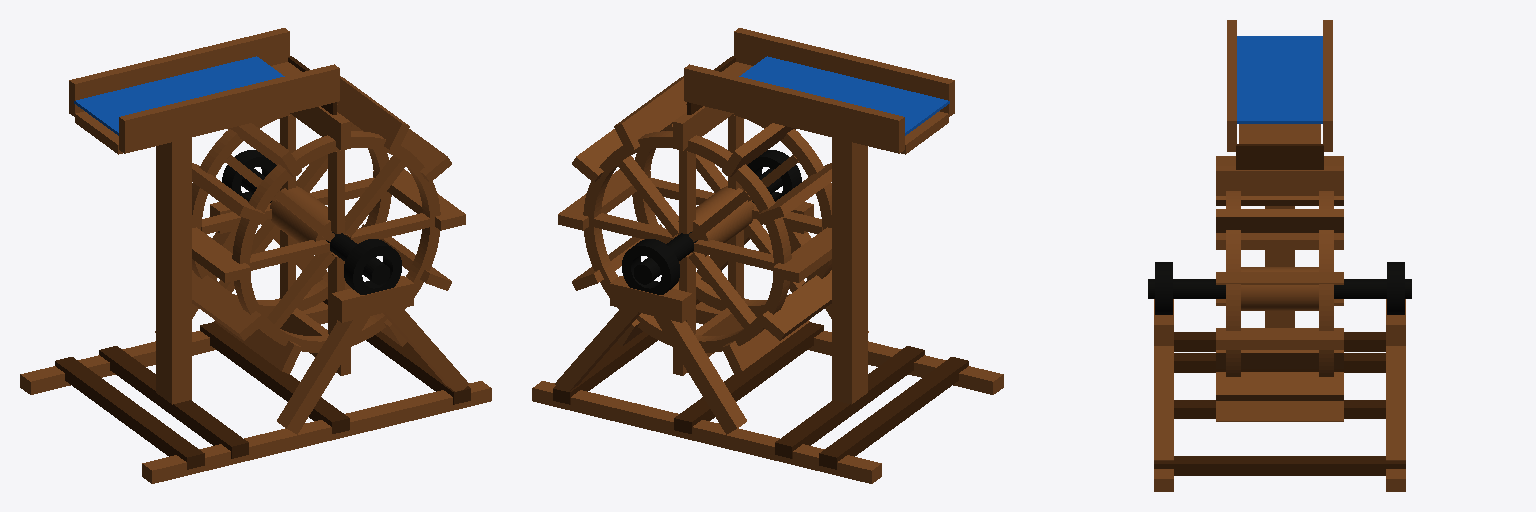
robot.urdf — undershot_waterwheel:
<robot name="undershot_waterwheel">
  <link name="frame">
    <visual name="base_rail_0">
      <origin xyz="0.12 -0.45 0.0275" rpy="0 0 0" />
      <geometry>
        <box size="1.45 0.075 0.055" />
        </geometry>
      <material name="weathered_wood">
        <color rgba="0.5 0.31 0.16 1" />
        </material>
      </visual>
    <visual name="base_rail_1">
      <origin xyz="0.12 0.45 0.0275" rpy="0 0 0" />
      <geometry>
        <box size="1.45 0.075 0.055" />
        </geometry>
      <material name="weathered_wood">
        <color rgba="0.5 0.31 0.16 1" />
        </material>
      </visual>
    <visual name="cross_tie_-0.42">
      <origin xyz="-0.42 0 0.05" rpy="0 0 0" />
      <geometry>
        <box size="0.075 0.98 0.05" />
        </geometry>
      <material name="dark_endgrain">
        <color rgba="0.28 0.17 0.08 1" />
        </material>
      </visual>
    <visual name="cross_tie_-0.23">
      <origin xyz="-0.23 0 0.05" rpy="0 0 0" />
      <geometry>
        <box size="0.075 0.98 0.05" />
        </geometry>
      <material name="dark_endgrain">
        <color rgba="0.28 0.17 0.08 1" />
        </material>
      </visual>
    <visual name="cross_tie_0.20">
      <origin xyz="0.2 0 0.05" rpy="0 0 0" />
      <geometry>
        <box size="0.075 0.98 0.05" />
        </geometry>
      <material name="dark_endgrain">
        <color rgba="0.28 0.17 0.08 1" />
        </material>
      </visual>
    <visual name="cross_tie_0.72">
      <origin xyz="0.72 0 0.05" rpy="0 0 0" />
      <geometry>
        <box size="0.075 0.98 0.05" />
        </geometry>
      <material name="dark_endgrain">
        <color rgba="0.28 0.17 0.08 1" />
        </material>
      </visual>
    <visual name="main_column">
      <origin xyz="-0.23 0 0.6425" rpy="0 0 0" />
      <geometry>
        <box size="0.085 0.12 1.135" />
        </geometry>
      <material name="weathered_wood">
        <color rgba="0.5 0.31 0.16 1" />
        </material>
      </visual>
    <visual name="side_leg_0_0">
      <origin xyz="0.1625 -0.45 0.3" rpy="0 0.647047 0" />
      <geometry>
        <box size="0.06 0.075 0.564004" />
        </geometry>
      <material name="weathered_wood">
        <color rgba="0.5 0.31 0.16 1" />
        </material>
      </visual>
    <visual name="side_leg_0_1">
      <origin xyz="0.5575 -0.45 0.3" rpy="0 -0.647047 0" />
      <geometry>
        <box size="0.06 0.075 0.564004" />
        </geometry>
      <material name="weathered_wood">
        <color rgba="0.5 0.31 0.16 1" />
        </material>
      </visual>
    <visual name="bearing_sill_0">
      <origin xyz="0.36 -0.45 0.515" rpy="0 0 0" />
      <geometry>
        <box size="0.31 0.078 0.09" />
        </geometry>
      <material name="weathered_wood">
        <color rgba="0.5 0.31 0.16 1" />
        </material>
      </visual>
    <visual name="side_leg_1_0">
      <origin xyz="0.1625 0.45 0.3" rpy="0 0.647047 0" />
      <geometry>
        <box size="0.06 0.075 0.564004" />
        </geometry>
      <material name="weathered_wood">
        <color rgba="0.5 0.31 0.16 1" />
        </material>
      </visual>
    <visual name="side_leg_1_1">
      <origin xyz="0.5575 0.45 0.3" rpy="0 -0.647047 0" />
      <geometry>
        <box size="0.06 0.075 0.564004" />
        </geometry>
      <material name="weathered_wood">
        <color rgba="0.5 0.31 0.16 1" />
        </material>
      </visual>
    <visual name="bearing_sill_1">
      <origin xyz="0.36 0.45 0.515" rpy="0 0 0" />
      <geometry>
        <box size="0.31 0.078 0.09" />
        </geometry>
      <material name="weathered_wood">
        <color rgba="0.5 0.31 0.16 1" />
        </material>
      </visual>
    <visual name="bearing_0">
      <geometry>
        <mesh filename="assets/meshes/bearing_ring_0.obj" />
        </geometry>
      <material name="dark_wrought_iron">
        <color rgba="0.08 0.08 0.075 1" />
        </material>
      </visual>
    <visual name="bearing_1">
      <geometry>
        <mesh filename="assets/meshes/bearing_ring_1.obj" />
        </geometry>
      <material name="dark_wrought_iron">
        <color rgba="0.08 0.08 0.075 1" />
        </material>
      </visual>
    <visual name="trough_bottom">
      <origin xyz="-0.1 0 1.222" rpy="0 0 0" />
      <geometry>
        <box size="0.92 0.32 0.038" />
        </geometry>
      <material name="weathered_wood">
        <color rgba="0.5 0.31 0.16 1" />
        </material>
      </visual>
    <visual name="trough_side_0">
      <origin xyz="-0.1 -0.185 1.292" rpy="0 0 0" />
      <geometry>
        <box size="0.92 0.04 0.135" />
        </geometry>
      <material name="weathered_wood">
        <color rgba="0.5 0.31 0.16 1" />
        </material>
      </visual>
    <visual name="trough_side_1">
      <origin xyz="-0.1 0.185 1.292" rpy="0 0 0" />
      <geometry>
        <box size="0.92 0.04 0.135" />
        </geometry>
      <material name="weathered_wood">
        <color rgba="0.5 0.31 0.16 1" />
        </material>
      </visual>
    <visual name="trough_lip">
      <origin xyz="0.36 0 1.205" rpy="0 0 0" />
      <geometry>
        <box size="0.018 0.34 0.105" />
        </geometry>
      <material name="dark_endgrain">
        <color rgba="0.28 0.17 0.08 1" />
        </material>
      </visual>
    <visual name="water_surface">
      <origin xyz="-0.17 0 1.286" rpy="0 0 0" />
      <geometry>
        <box size="0.78 0.34 0.012" />
        </geometry>
      <material name="channel_water">
        <color rgba="0.1 0.38 0.72 0.62" />
        </material>
      </visual>
    <collision name="base_rail_0">
      <origin xyz="0.12 -0.45 0.0275" rpy="0 0 0" />
      <geometry>
        <box size="1.45 0.075 0.055" />
        </geometry>
      </collision>
    <collision name="base_rail_1">
      <origin xyz="0.12 0.45 0.0275" rpy="0 0 0" />
      <geometry>
        <box size="1.45 0.075 0.055" />
        </geometry>
      </collision>
    <collision name="cross_tie_-0.42">
      <origin xyz="-0.42 0 0.05" rpy="0 0 0" />
      <geometry>
        <box size="0.075 0.98 0.05" />
        </geometry>
      </collision>
    <collision name="cross_tie_-0.23">
      <origin xyz="-0.23 0 0.05" rpy="0 0 0" />
      <geometry>
        <box size="0.075 0.98 0.05" />
        </geometry>
      </collision>
    <collision name="cross_tie_0.20">
      <origin xyz="0.2 0 0.05" rpy="0 0 0" />
      <geometry>
        <box size="0.075 0.98 0.05" />
        </geometry>
      </collision>
    <collision name="cross_tie_0.72">
      <origin xyz="0.72 0 0.05" rpy="0 0 0" />
      <geometry>
        <box size="0.075 0.98 0.05" />
        </geometry>
      </collision>
    <collision name="main_column">
      <origin xyz="-0.23 0 0.6425" rpy="0 0 0" />
      <geometry>
        <box size="0.085 0.12 1.135" />
        </geometry>
      </collision>
    <collision name="side_leg_0_0">
      <origin xyz="0.1625 -0.45 0.3" rpy="0 0.647047 0" />
      <geometry>
        <box size="0.06 0.075 0.564004" />
        </geometry>
      </collision>
    <collision name="side_leg_0_1">
      <origin xyz="0.5575 -0.45 0.3" rpy="0 -0.647047 0" />
      <geometry>
        <box size="0.06 0.075 0.564004" />
        </geometry>
      </collision>
    <collision name="bearing_sill_0">
      <origin xyz="0.36 -0.45 0.515" rpy="0 0 0" />
      <geometry>
        <box size="0.31 0.078 0.09" />
        </geometry>
      </collision>
    <collision name="side_leg_1_0">
      <origin xyz="0.1625 0.45 0.3" rpy="0 0.647047 0" />
      <geometry>
        <box size="0.06 0.075 0.564004" />
        </geometry>
      </collision>
    <collision name="side_leg_1_1">
      <origin xyz="0.5575 0.45 0.3" rpy="0 -0.647047 0" />
      <geometry>
        <box size="0.06 0.075 0.564004" />
        </geometry>
      </collision>
    <collision name="bearing_sill_1">
      <origin xyz="0.36 0.45 0.515" rpy="0 0 0" />
      <geometry>
        <box size="0.31 0.078 0.09" />
        </geometry>
      </collision>
    <collision name="bearing_0">
      <geometry>
        <mesh filename="assets/meshes/bearing_ring_0.obj" />
        </geometry>
      </collision>
    <collision name="bearing_1">
      <geometry>
        <mesh filename="assets/meshes/bearing_ring_1.obj" />
        </geometry>
      </collision>
    <collision name="trough_bottom">
      <origin xyz="-0.1 0 1.222" rpy="0 0 0" />
      <geometry>
        <box size="0.92 0.32 0.038" />
        </geometry>
      </collision>
    <collision name="trough_side_0">
      <origin xyz="-0.1 -0.185 1.292" rpy="0 0 0" />
      <geometry>
        <box size="0.92 0.04 0.135" />
        </geometry>
      </collision>
    <collision name="trough_side_1">
      <origin xyz="-0.1 0.185 1.292" rpy="0 0 0" />
      <geometry>
        <box size="0.92 0.04 0.135" />
        </geometry>
      </collision>
    <collision name="trough_lip">
      <origin xyz="0.36 0 1.205" rpy="0 0 0" />
      <geometry>
        <box size="0.018 0.34 0.105" />
        </geometry>
      </collision>
    <collision name="water_surface">
      <origin xyz="-0.17 0 1.286" rpy="0 0 0" />
      <geometry>
        <box size="0.78 0.34 0.012" />
        </geometry>
      </collision>
    </link>
  <link name="wheel">
    <visual name="wheel_wood">
      <geometry>
        <mesh filename="assets/meshes/paddle_wheel_wood.obj" />
        </geometry>
      <material name="weathered_wood">
        <color rgba="0.5 0.31 0.16 1" />
        </material>
      </visual>
    <visual name="axle">
      <origin xyz="0 0 0" rpy="-1.5708 0 0" />
      <geometry>
        <cylinder radius="0.04" length="1.02" />
        </geometry>
      <material name="dark_wrought_iron">
        <color rgba="0.08 0.08 0.075 1" />
        </material>
      </visual>
    <visual name="hub_band">
      <origin xyz="0 0 0" rpy="-1.5708 0 0" />
      <geometry>
        <cylinder radius="0.07" length="0.2" />
        </geometry>
      <material name="dark_wrought_iron">
        <color rgba="0.08 0.08 0.075 1" />
        </material>
      </visual>
    <collision name="wheel_wood">
      <geometry>
        <mesh filename="assets/meshes/paddle_wheel_wood.obj" />
        </geometry>
      </collision>
    <collision name="axle">
      <origin xyz="0 0 0" rpy="-1.5708 0 0" />
      <geometry>
        <cylinder radius="0.04" length="1.02" />
        </geometry>
      </collision>
    <collision name="hub_band">
      <origin xyz="0 0 0" rpy="-1.5708 0 0" />
      <geometry>
        <cylinder radius="0.07" length="0.2" />
        </geometry>
      </collision>
    </link>
  <joint name="axle_spin" type="continuous">
    <origin xyz="0.36 0 0.64" rpy="0 0 0" />
    <parent link="frame" />
    <child link="wheel" />
    <axis xyz="0 1 0" />
    <limit effort="25" velocity="3" />
    <dynamics damping="0.02" friction="0.01" />
    </joint>
  </robot>

--- Render facts (derived) ---
Views: 3 orthographic renders of the robot side by side, from view 1: azimuth 30°, elevation 25°; view 2: azimuth 150°, elevation 25°; view 3: azimuth 270°, elevation 25°.
Robot: undershot_waterwheel — 2 links, 1 joints (1 continuous); root link frame; default pose: all joints at 0.
Links seen in each view (by area): view 1: frame, wheel; view 2: frame, wheel; view 3: frame, wheel.
Link boxes in pixels (x1,y1,x2,y2): frame: (20, 28, 491, 483); wheel: (192, 76, 465, 375); frame: (532, 28, 1003, 483); wheel: (558, 76, 831, 375); frame: (1154, 20, 1405, 491); wheel: (1148, 156, 1411, 421).
Bounding box of the posed robot: 1.48 × 1.02 × 1.36 m (x, y, z).
Meshes: 3 distinct files referenced, 3 mesh visuals loaded (3 OBJ).
